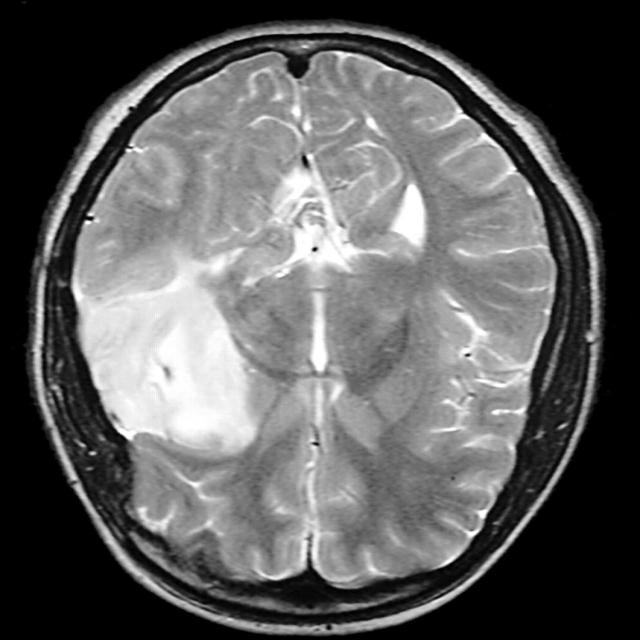Tumor-Cell: (71, 272, 262, 454)
